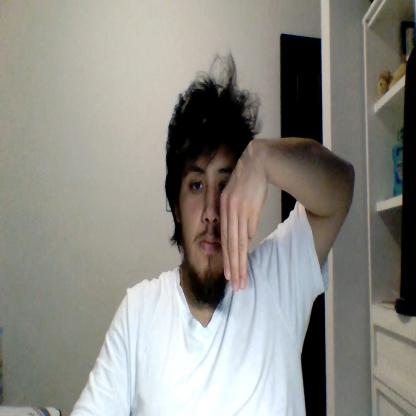M: (219, 142, 268, 291)
